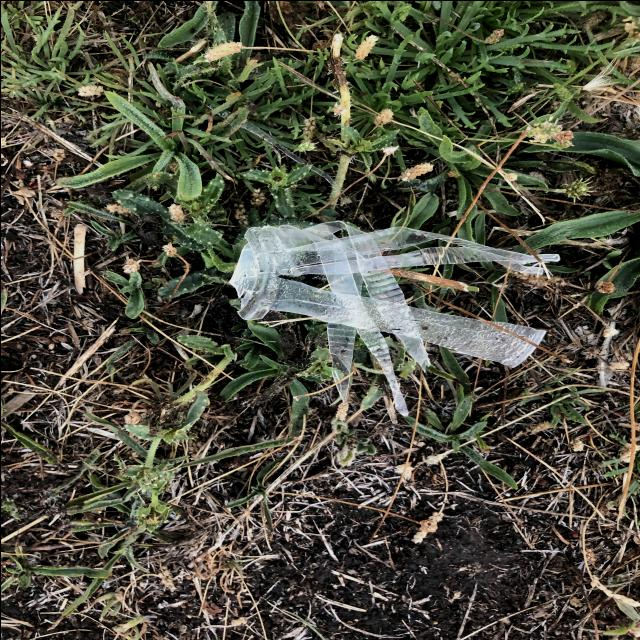Disposable plastic cup: (228, 220, 558, 415)
